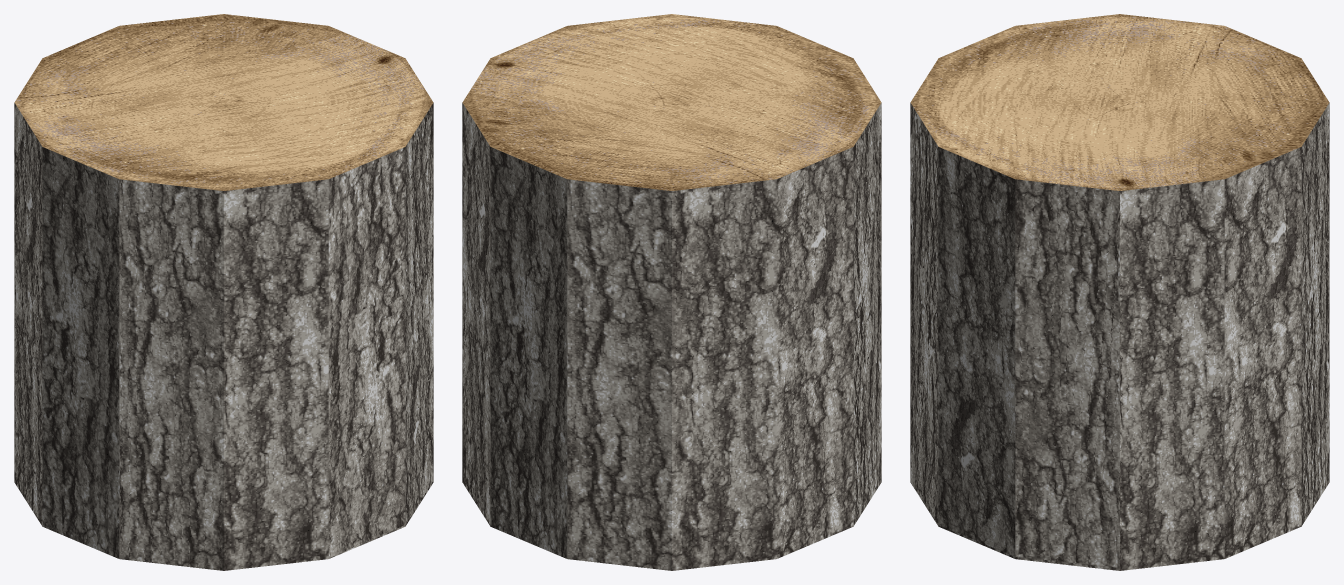
Rendered from log.glb.
The picture shows the model from 3 angles, left to right: view 1: azimuth 30°, elevation 25°; view 2: azimuth 150°, elevation 25°; view 3: azimuth 270°, elevation 25°; orthographic projection.
Visible parts, largest first — view 1: Cylinder; view 2: Cylinder; view 3: Cylinder.
Boxes of the visible parts, x1,y1,x2,y2 form: Cylinder: (14,14,433,570); Cylinder: (462,14,881,570); Cylinder: (910,14,1329,570).
Size of the model in its own units: 2 by 2 by 2.
Materials: 2 (2 with a texture image).
